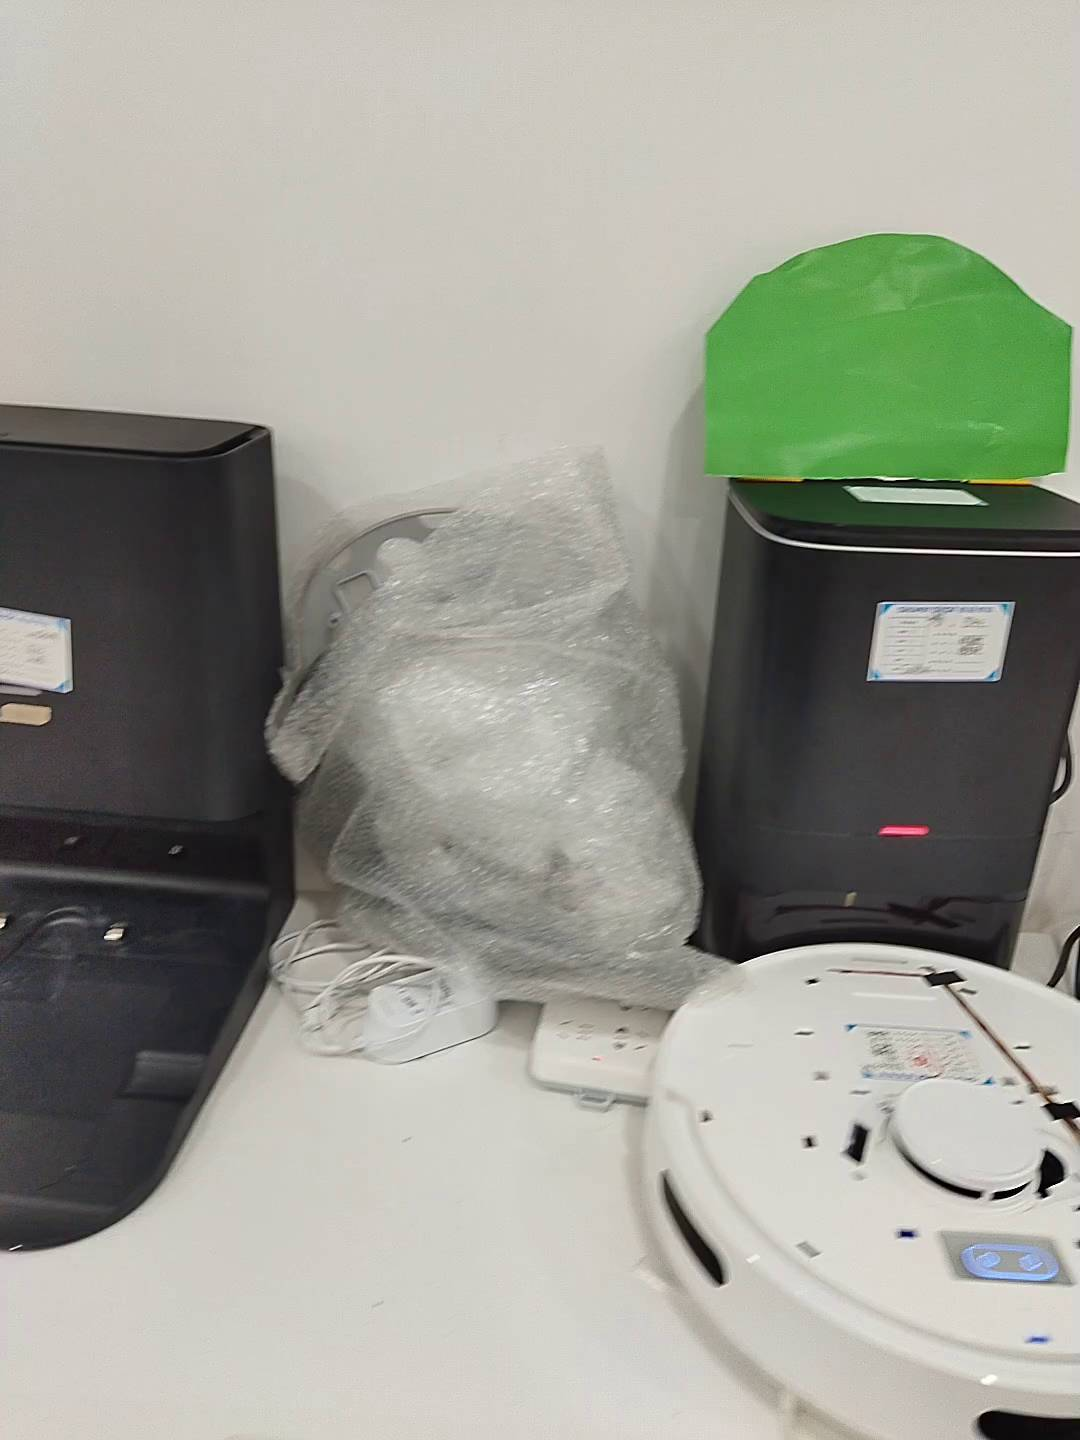dust collecting barrel: (1, 400, 298, 1257), (693, 477, 1080, 974)
